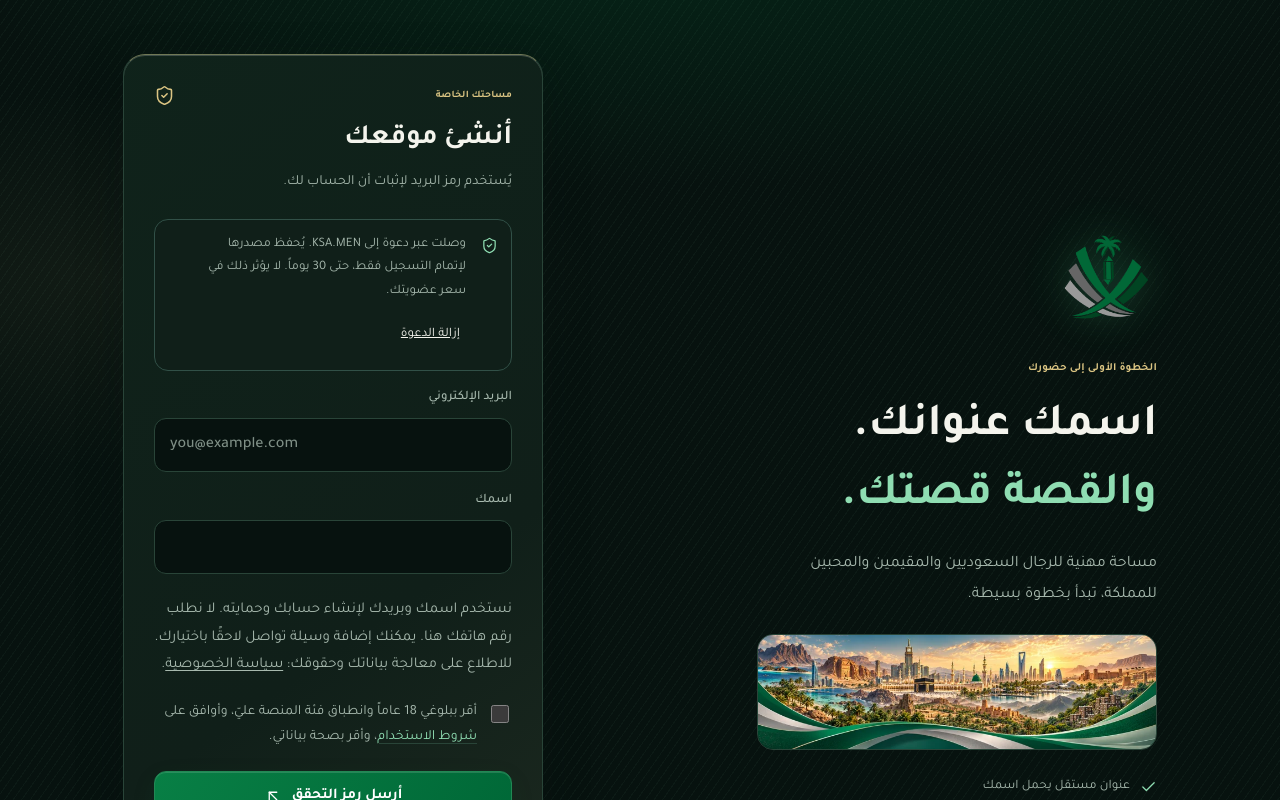
Test: Referral and conversion controls › opens legacy invitation links in registration, preserving explicit age, eligibility and policy affirmations
Expected: the field named "name" is shown, [154, 520, 512, 574]
Expected: the link to "/privacy" is shown, [165, 657, 283, 672]
Click the button "إزالة الدعوة".
click(430, 334)  # box [168, 313, 466, 357]
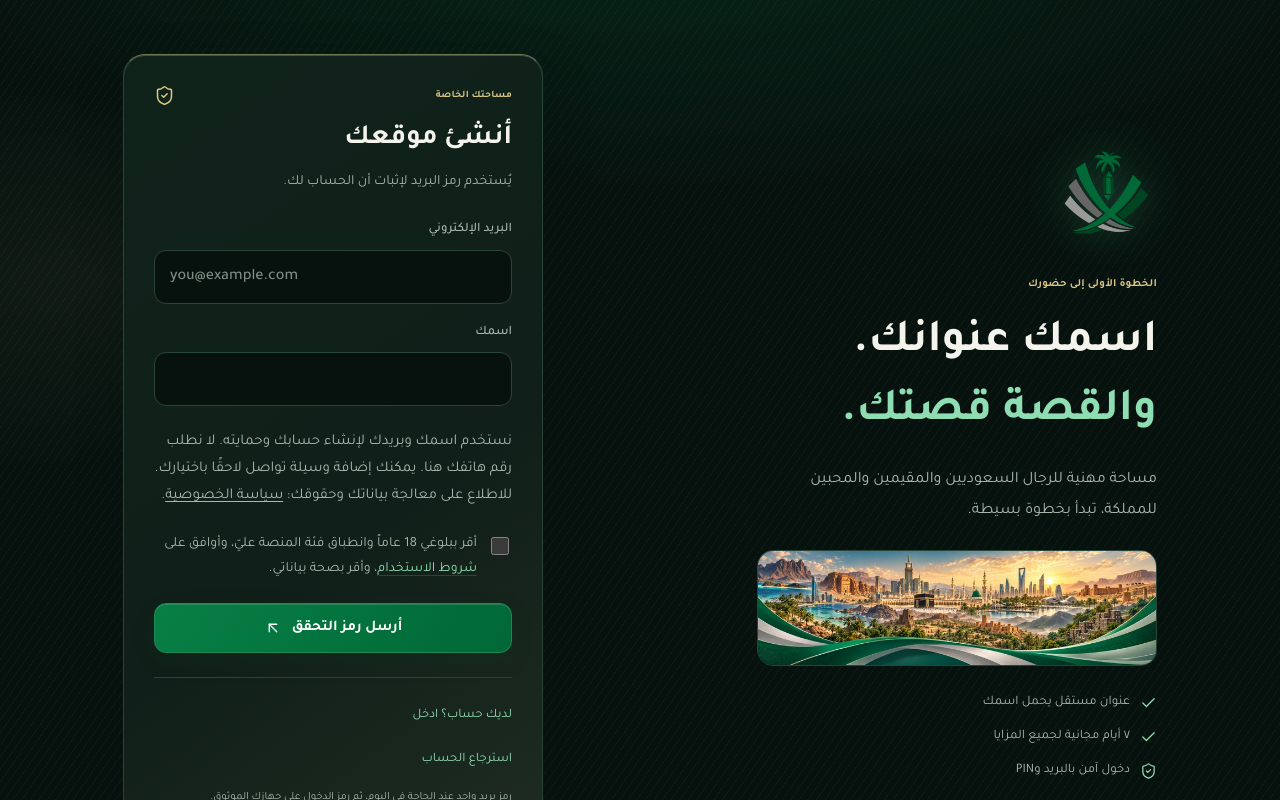
Expected: the text "وصلت عبر دعوة" is gone
